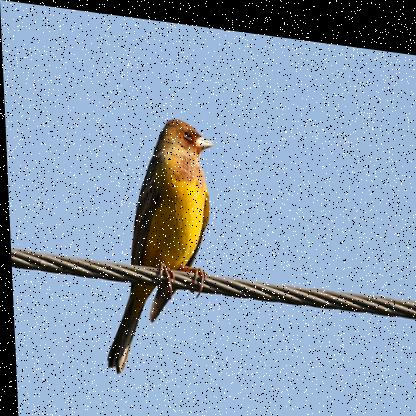Burung: (95, 106, 222, 387)
